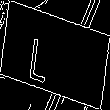L_N: (43, 27, 67, 83)
